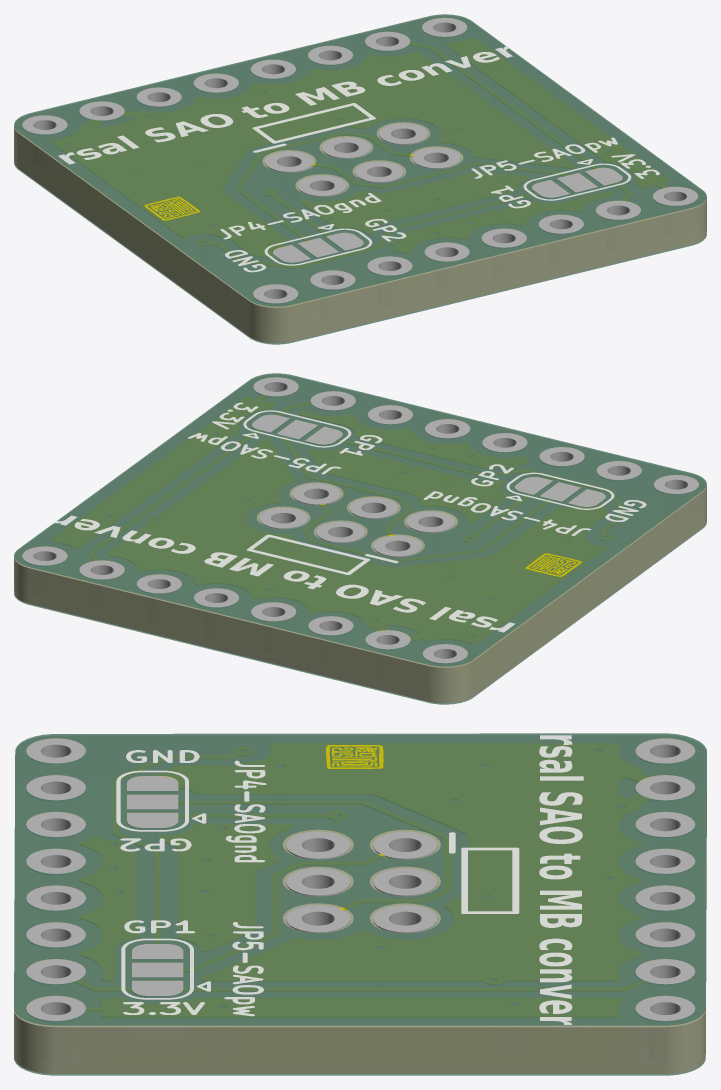
The model's file is sao-to-minibadge-universal-adapter.glb.
The picture shows the model from 3 angles, top to bottom: view 1: azimuth 30°, elevation 25°; view 2: azimuth 150°, elevation 25°; view 3: azimuth 270°, elevation 25°; orthographic projection. The views are drawn at different scales.
Parts seen in each view (by area): view 1: =>[0:1:1:7], =>[0:1:1:2], =>[0:1:1:9], =>[0:1:1:5]; view 2: =>[0:1:1:7], =>[0:1:1:2], =>[0:1:1:9], =>[0:1:1:5]; view 3: =>[0:1:1:7], =>[0:1:1:2], =>[0:1:1:9], =>[0:1:1:5].
Boxes of the visible parts, x1,y1,x2,y2 form: =>[0:1:1:7]: (14,14,706,344); =>[0:1:1:2]: (22,18,698,303); =>[0:1:1:9]: (14,16,706,343); =>[0:1:1:5]: (58,46,659,272); =>[0:1:1:7]: (14,373,706,704); =>[0:1:1:2]: (22,377,698,663); =>[0:1:1:9]: (14,375,706,703); =>[0:1:1:5]: (54,402,646,632); =>[0:1:1:7]: (14,733,706,1075); =>[0:1:1:2]: (26,738,695,1021); =>[0:1:1:9]: (14,735,706,1073); =>[0:1:1:5]: (116,735,583,1024).
Bounding box in the file's own units: 0.0202 × 0.00166 × 0.0202.
Materials: 4 (4 with a texture image).
